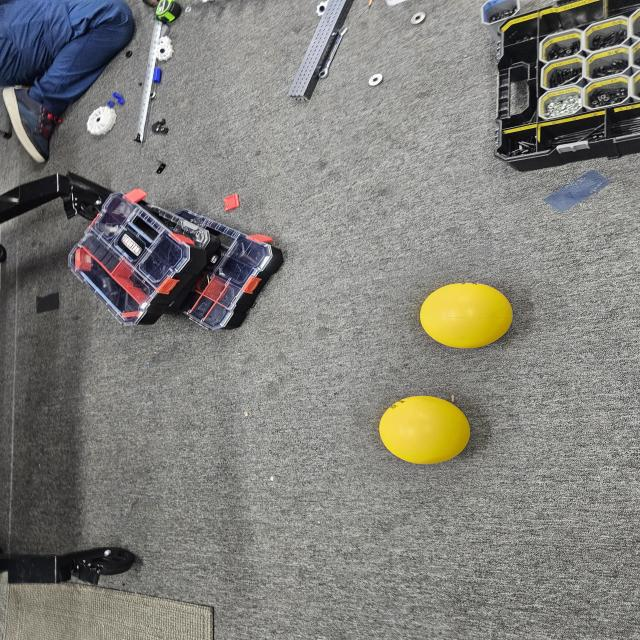Fuel: (417, 280, 517, 352), (378, 393, 475, 466)
